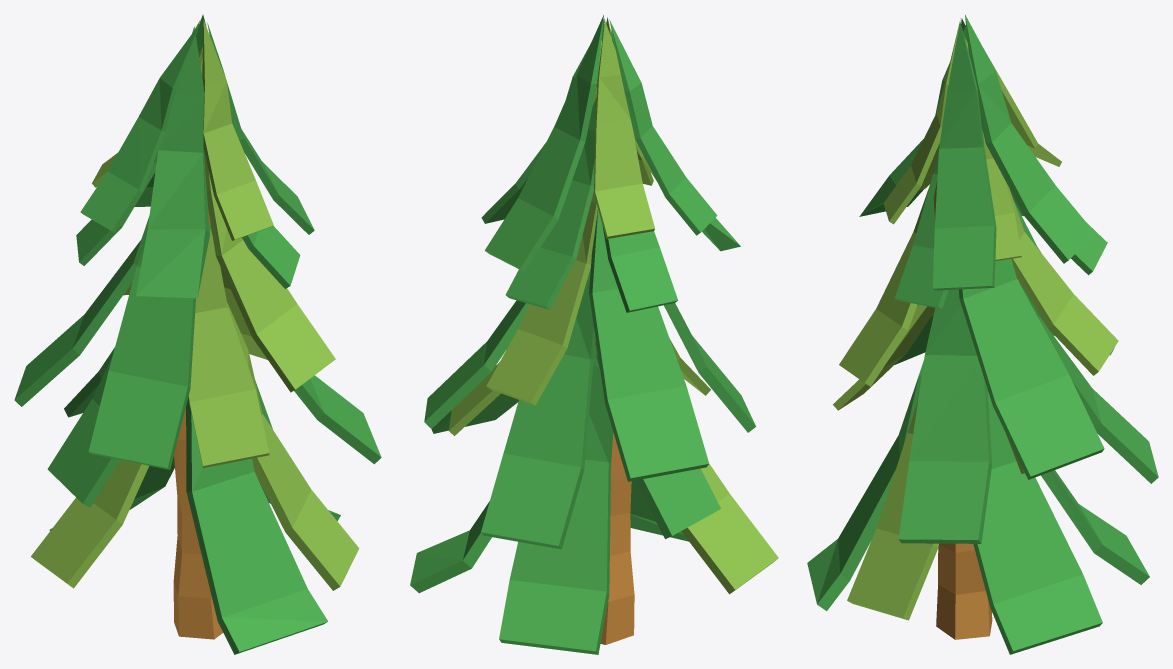
File: tree_07_mesh874600975.glb
The picture shows the model from 3 angles, left to right: view 1: azimuth 30°, elevation 25°; view 2: azimuth 150°, elevation 25°; view 3: azimuth 270°, elevation 25°; orthographic projection.
Parts seen in each view (by area): view 1: part_2_mesh874600975_1, part_1_mesh874600975, part_3_mesh874600975_2; view 2: part_2_mesh874600975_1, part_1_mesh874600975, part_3_mesh874600975_2; view 3: part_2_mesh874600975_1, part_1_mesh874600975, part_3_mesh874600975_2.
Boxes of the visible parts, box(x1,y1,x2,y2) form: part_2_mesh874600975_1: box(14, 14, 381, 654); part_1_mesh874600975: box(31, 20, 359, 590); part_3_mesh874600975_2: box(173, 211, 223, 639); part_2_mesh874600975_1: box(410, 15, 755, 654); part_1_mesh874600975: box(448, 17, 778, 594); part_3_mesh874600975_2: box(595, 80, 634, 644); part_2_mesh874600975_1: box(807, 14, 1158, 654); part_1_mesh874600975: box(833, 18, 1118, 620); part_3_mesh874600975_2: box(936, 543, 992, 639).
Bounding box in the file's own units: 0.2036 × 0.3715 × 0.1926.
